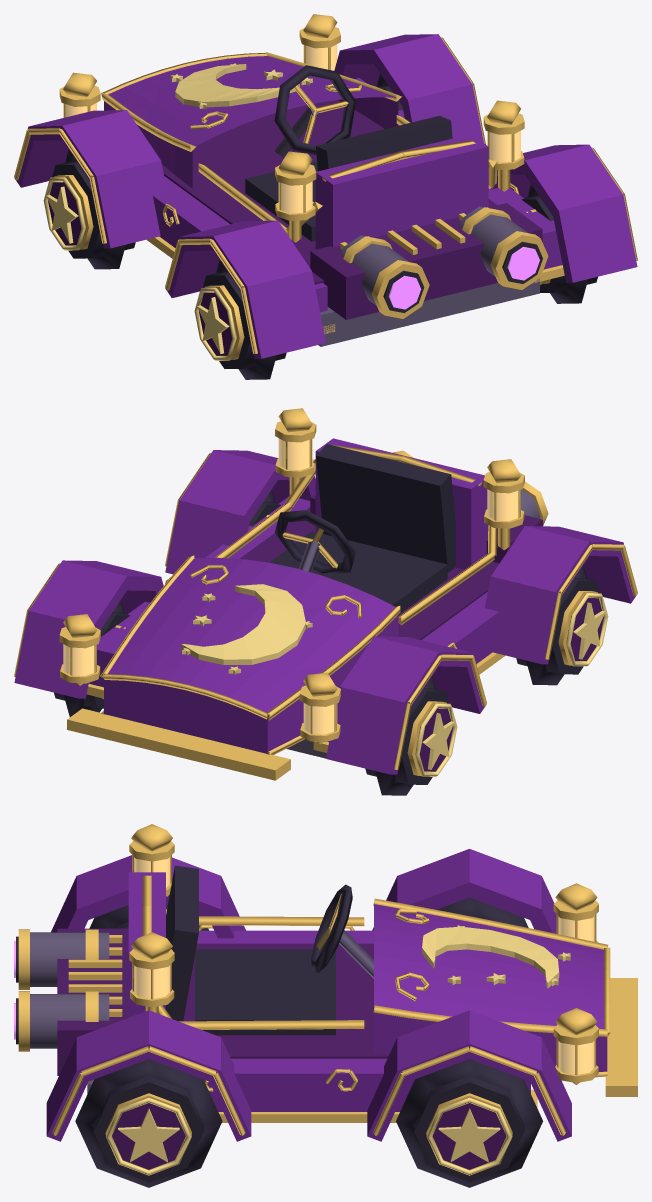
Rendered from kart-lod2.glb.
The picture shows the model from 3 angles, top to bottom: view 1: azimuth 30°, elevation 25°; view 2: azimuth 150°, elevation 25°; view 3: azimuth 270°, elevation 25°; orthographic projection. The views are drawn at different scales.
Parts seen in each view (by area): view 1: Chassis, AccentMesh, Wheel_FL, Wheel_RL, Exhaust_R, Exhaust_L, SteeringWheel, Wheel_RR; view 2: Chassis, AccentMesh, Wheel_FL, Wheel_RL, SteeringWheel, Wheel_FR, Exhaust_L; view 3: Chassis, AccentMesh, Wheel_FR, Wheel_RR, Exhaust_L, Exhaust_R, SteeringWheel, Wheel_FL, Wheel_RL.
Boxes of the visible parts, x1=… form: Chassis: x1=14, y1=34, x2=637, y2=358; AccentMesh: x1=14, y1=14, x2=637, y2=353; Wheel_FL: x1=43, y1=150, x2=135, y2=269; Wheel_RL: x1=194, y1=260, x2=286, y2=379; Exhaust_R: x1=460, y1=206, x2=548, y2=289; Exhaust_L: x1=341, y1=235, x2=429, y2=318; SteeringWheel: x1=274, y1=65, x2=355, y2=157; Wheel_RR: x1=521, y1=184, x2=597, y2=303; Chassis: x1=14, y1=438, x2=637, y2=774; AccentMesh: x1=14, y1=408, x2=637, y2=780; Wheel_FL: x1=365, y1=676, x2=457, y2=795; Wheel_RL: x1=516, y1=565, x2=608, y2=685; SteeringWheel: x1=275, y1=510, x2=355, y2=574; Wheel_FR: x1=54, y1=600, x2=130, y2=716; Exhaust_L: x1=497, y1=481, x2=548, y2=532; Chassis: x1=46, y1=849, x2=607, y2=1141; AccentMesh: x1=52, y1=824, x2=637, y2=1135; Wheel_FR: x1=396, y1=1059, x2=542, y2=1187; Wheel_RR: x1=75, y1=1059, x2=222, y2=1187; Exhaust_L: x1=14, y1=929, x2=109, y2=989; Exhaust_R: x1=14, y1=991, x2=109, y2=1051; SteeringWheel: x1=311, y1=884, x2=373, y2=978; Wheel_FL: x1=436, y1=897, x2=528, y2=927; Wheel_RL: x1=89, y1=904, x2=208, y2=930.
Size of the model in its own units: 2.9 by 1.54 by 3.85.
